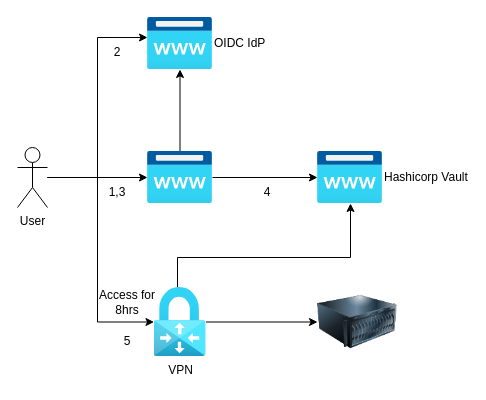
Image size: 486x400. Some labels were removed from this diagram. The centre of each missing label's shape, as x and y in pixels:
"User's Servers" goes at point (357, 322).
"VSM" goes at point (179, 177).
